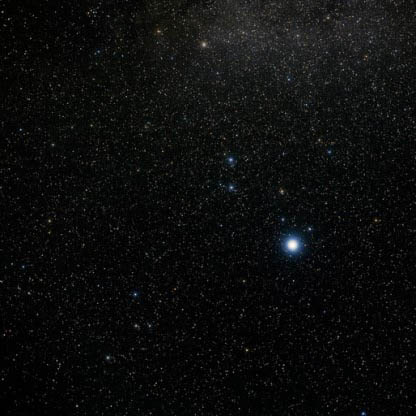Lyra: (276, 234, 306, 262), (221, 179, 239, 194), (222, 151, 236, 169), (274, 183, 286, 198), (276, 210, 287, 226), (306, 218, 317, 233)
